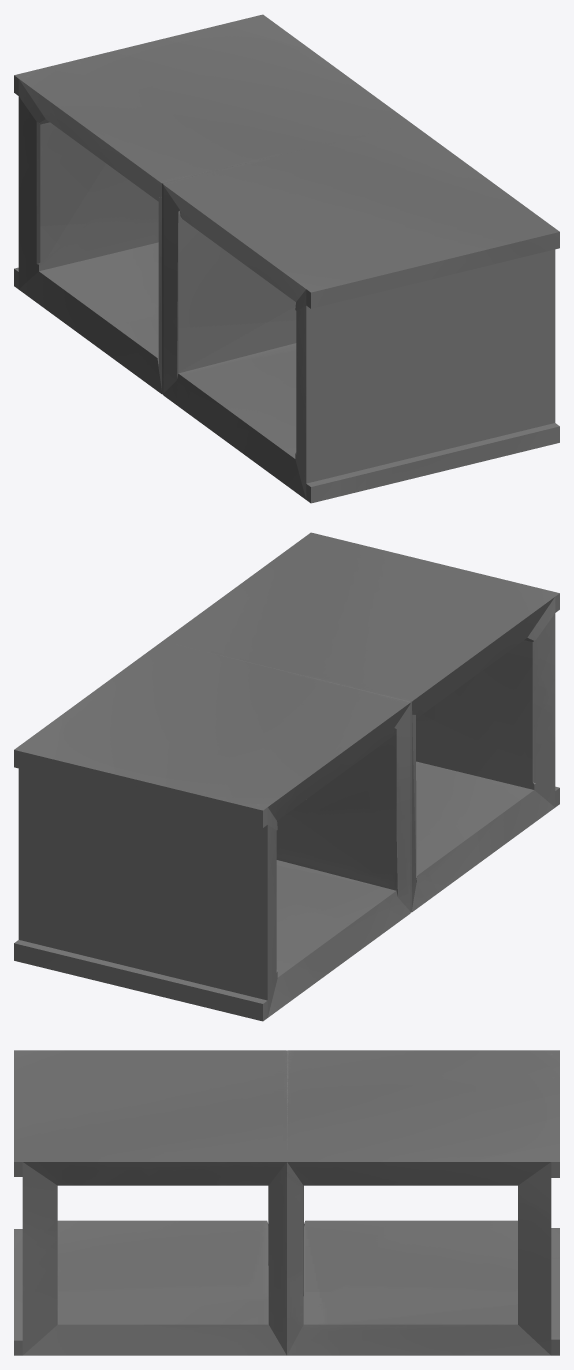
Rendered from concrete-brick.glb.
The picture shows the model from 3 angles, top to bottom: view 1: azimuth 30°, elevation 25°; view 2: azimuth 150°, elevation 25°; view 3: azimuth 270°, elevation 25°; orthographic projection. The views are drawn at different scales.
Visible parts, largest first — view 1: Concrete Brick; view 2: Concrete Brick; view 3: Concrete Brick.
Part boxes in pixels (x1,y1,x2,y2): Concrete Brick: [14, 14, 559, 503]; Concrete Brick: [14, 532, 559, 1021]; Concrete Brick: [14, 1050, 559, 1355].
Size of the model in its own units: 2 by 1.62 by 4.13.
1 material, 1 textured.
